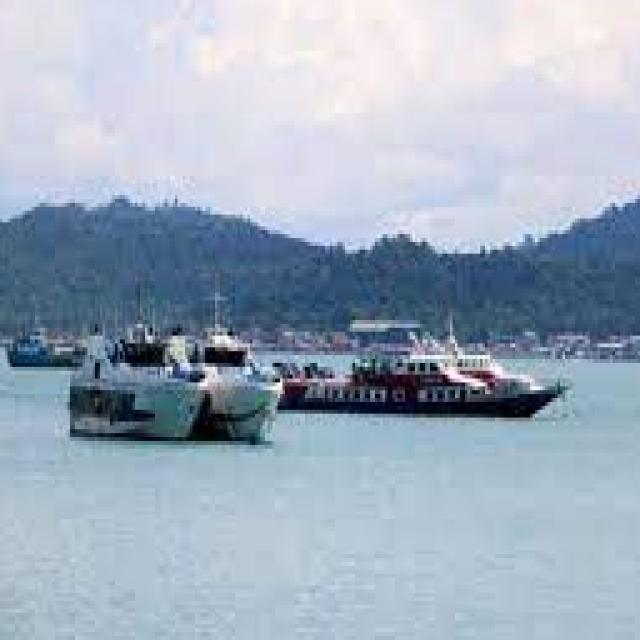houseboat: (64, 337, 210, 444)
passenger ship: (285, 296, 575, 418)
